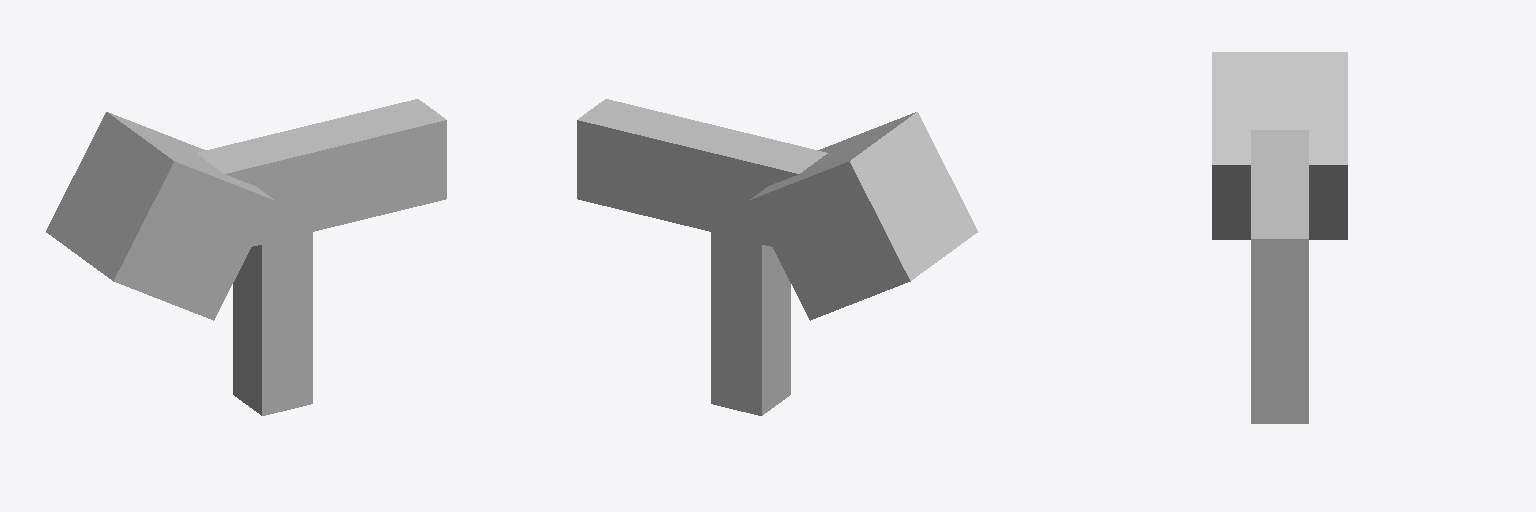
The model's file is test_tree.obj.
3 renders of one model, left to right at view 1: azimuth 30°, elevation 25°; view 2: azimuth 150°, elevation 25°; view 3: azimuth 270°, elevation 25°, orthographic.
Parts seen in each view (by area): view 1: Cube.001; view 2: Cube.001; view 3: Cube.001.
Part boxes in pixels (bbox=[...]): Cube.001: bbox=[46, 99, 446, 415]; Cube.001: bbox=[577, 99, 977, 415]; Cube.001: bbox=[1212, 52, 1347, 423].
Size of the model in its own units: 14.05 by 11.24 by 4.68.